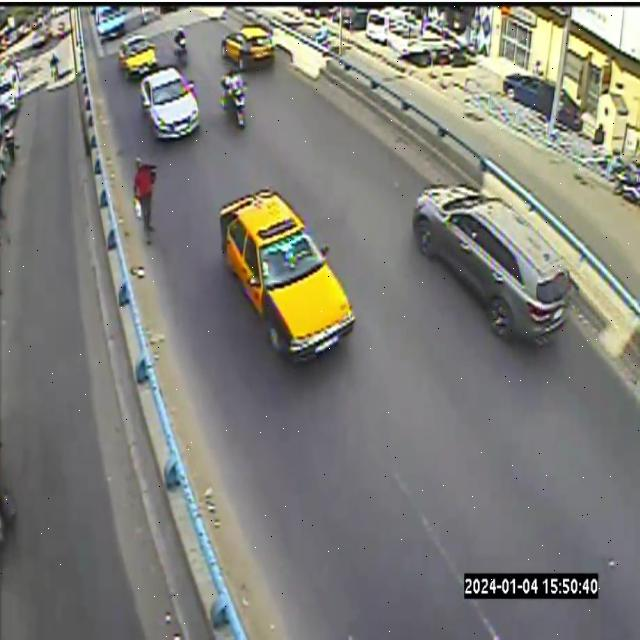car: (412, 184, 570, 341), (219, 188, 354, 360), (141, 66, 199, 139), (221, 25, 274, 71), (119, 35, 158, 78), (95, 6, 125, 42)
